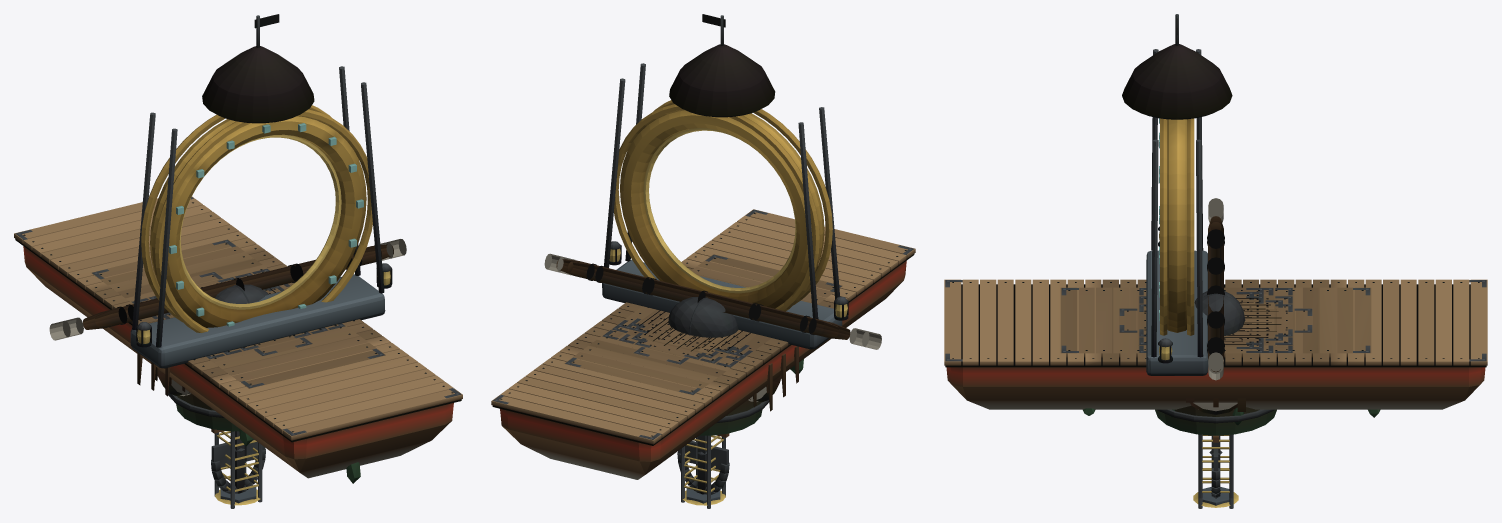
The model's file is coast-1-CMSmTxUo.glb.
3 views of the same model, side by side, from view 1: azimuth 30°, elevation 25°; view 2: azimuth 150°, elevation 25°; view 3: azimuth 270°, elevation 25° (orthographic). The views are drawn at different scales.
Visible parts, largest first — view 1: portal_#0, block_10x2x28#0, block_8x2x16#0, mount_8.2#0, mount_8.9#0, blade_3x10x1#0, truss_10#0, disc_7x1.5#0, block_3x2x10#0, boulder_4x3#0, block_6x2x8#0, truss_9.4#0; view 2: block_10x2x28#0, portal_#0, block_8x2x16#0, mount_8.2#0, block_8x2x6#0, mount_8.9#0, boulder_4x3#0, blade_3x10x1#0, disc_7x1.5#0, truss_10#0, block_6x2x8#0, block_3x2x10#0; view 3: block_10x2x28#0, portal_#0, block_8x2x16#0, disc_7x1.5#0, block_8x2x6#0, mount_8.2#0, block_6x2x8#0, mount_8.9#0, boulder_4x3#0, truss_10#0, block_3x2x10#0, truss_9.4#0.
Part boxes in pixels (bbox=[...]): portal_#0: bbox=[130, 14, 392, 368]; block_10x2x28#0: bbox=[14, 196, 462, 483]; block_8x2x16#0: bbox=[91, 239, 385, 388]; mount_8.2#0: bbox=[65, 242, 393, 336]; mount_8.9#0: bbox=[49, 239, 406, 340]; blade_3x10x1#0: bbox=[211, 429, 265, 493]; truss_10#0: bbox=[214, 431, 262, 508]; disc_7x1.5#0: bbox=[168, 288, 279, 431]; block_3x2x10#0: bbox=[191, 271, 312, 356]; boulder_4x3#0: bbox=[215, 284, 268, 303]; block_6x2x8#0: bbox=[148, 272, 329, 355]; truss_9.4#0: bbox=[214, 431, 258, 497]; block_10x2x28#0: bbox=[491, 209, 915, 479]; portal_#0: bbox=[602, 14, 848, 349]; block_8x2x16#0: bbox=[564, 254, 842, 395]; mount_8.2#0: bbox=[557, 256, 867, 346]; block_8x2x6#0: bbox=[611, 306, 781, 406]; mount_8.9#0: bbox=[544, 253, 881, 349]; boulder_4x3#0: bbox=[668, 297, 738, 337]; blade_3x10x1#0: bbox=[677, 433, 729, 494]; disc_7x1.5#0: bbox=[639, 309, 769, 435]; truss_10#0: bbox=[681, 435, 725, 508]; block_6x2x8#0: bbox=[617, 314, 746, 363]; block_3x2x10#0: bbox=[632, 332, 705, 364]; block_10x2x28#0: bbox=[944, 279, 1487, 425]; portal_#0: bbox=[1122, 14, 1232, 375]; block_8x2x16#0: bbox=[1060, 287, 1371, 417]; disc_7x1.5#0: bbox=[1155, 294, 1281, 435]; block_8x2x6#0: bbox=[1224, 287, 1274, 353]; mount_8.2#0: bbox=[1207, 204, 1224, 364]; block_6x2x8#0: bbox=[1138, 296, 1293, 345]; mount_8.9#0: bbox=[1207, 198, 1224, 380]; boulder_4x3#0: bbox=[1194, 291, 1245, 335]; truss_10#0: bbox=[1198, 434, 1233, 508]; block_3x2x10#0: bbox=[1119, 308, 1312, 332]; truss_9.4#0: bbox=[1199, 434, 1232, 498].
Size of the model in its own units: 20.35 by 27.7 by 28.
